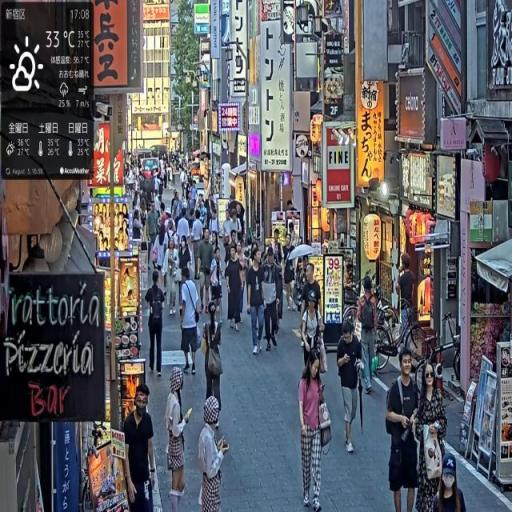person: (386, 348, 422, 512), (299, 349, 332, 512), (414, 363, 449, 512), (165, 367, 195, 511), (337, 316, 367, 457), (124, 385, 156, 512), (198, 394, 231, 512), (200, 300, 225, 424), (357, 277, 379, 396), (180, 265, 202, 375), (147, 271, 168, 379), (301, 295, 328, 377), (262, 249, 283, 352), (227, 245, 245, 332), (198, 227, 216, 313), (191, 212, 204, 284)
